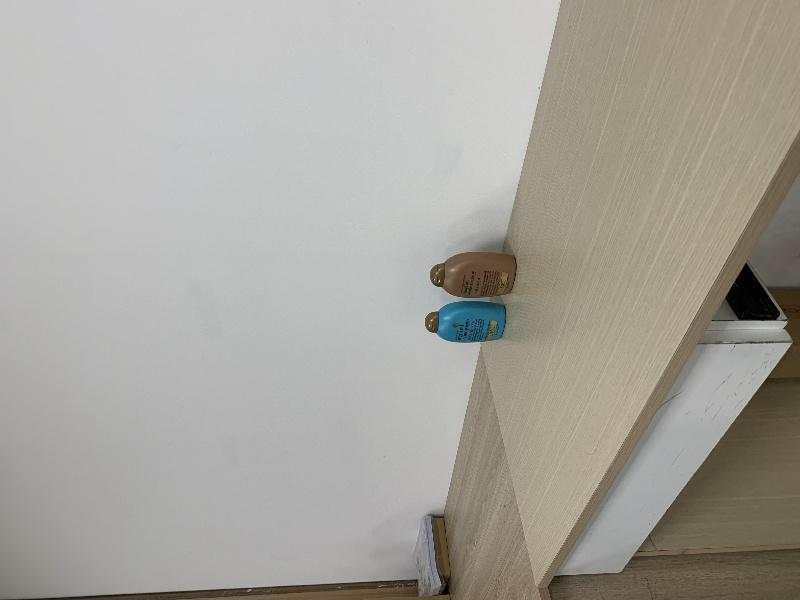ArganOilOfMorocco_Conditioner: (424, 302, 506, 342)
BrazilianKeratinTherapy_Shampoo: (431, 252, 516, 299)
